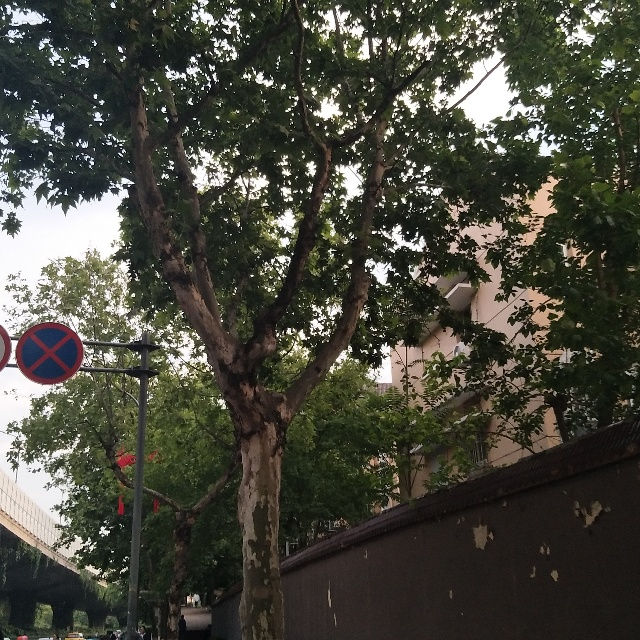stop: (22, 326, 80, 381)
